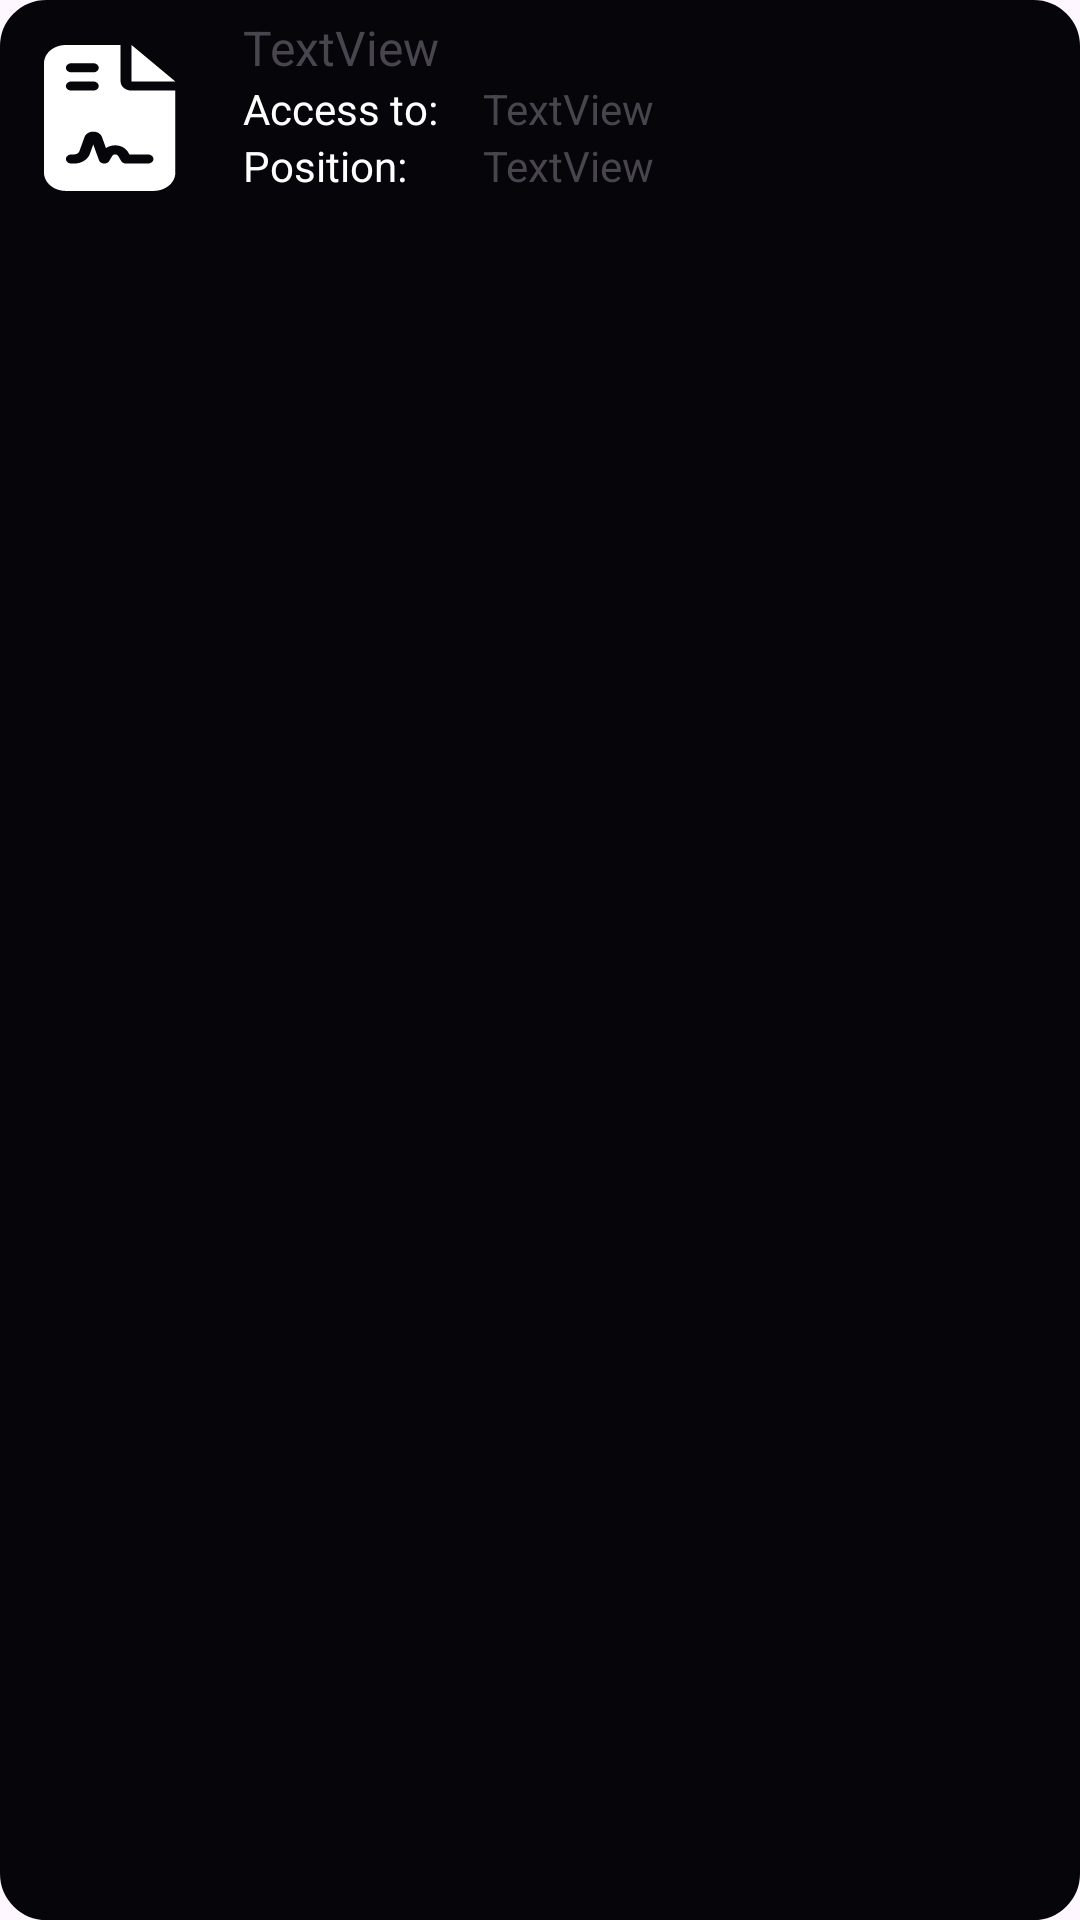

Icons on this 1080w x 1920h Android screen, each with the point to tap as (x=x, y=y):
file contract: (x=110, y=118)
